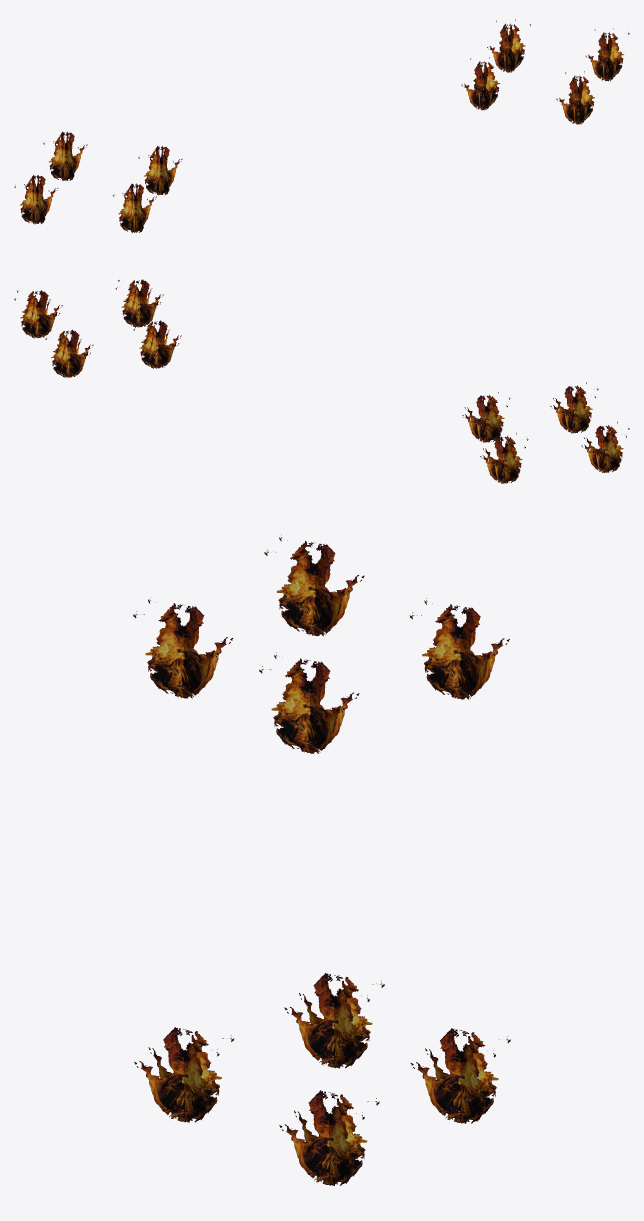
The model's file is torch_fire_HEX_01.fbx.
The picture shows the model from 3 angles, top to bottom: view 1: azimuth 30°, elevation 25°; view 2: azimuth 150°, elevation 25°; view 3: azimuth 270°, elevation 25°; orthographic projection. The views are drawn at different scales.
Visible parts, largest first — view 1: torch_fire_HEX_02; view 2: torch_fire_HEX_02; view 3: torch_fire_HEX_02.
Boxes of the visible parts, bbox=[...] form: torch_fire_HEX_02: bbox=[14, 19, 629, 232]; torch_fire_HEX_02: bbox=[14, 279, 629, 483]; torch_fire_HEX_02: bbox=[133, 534, 510, 1185].
Bounding box in the file's own units: 2.74 × 0.2 × 0.7406.
Materials: 1 (1 with a texture image).
